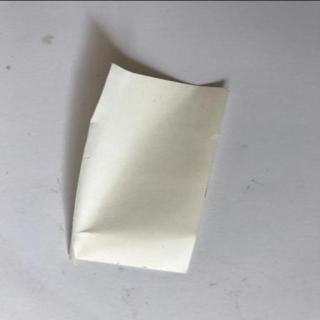Anorganik: (70, 65, 228, 275)
